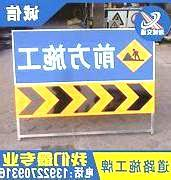sign: (12, 30, 155, 115)
